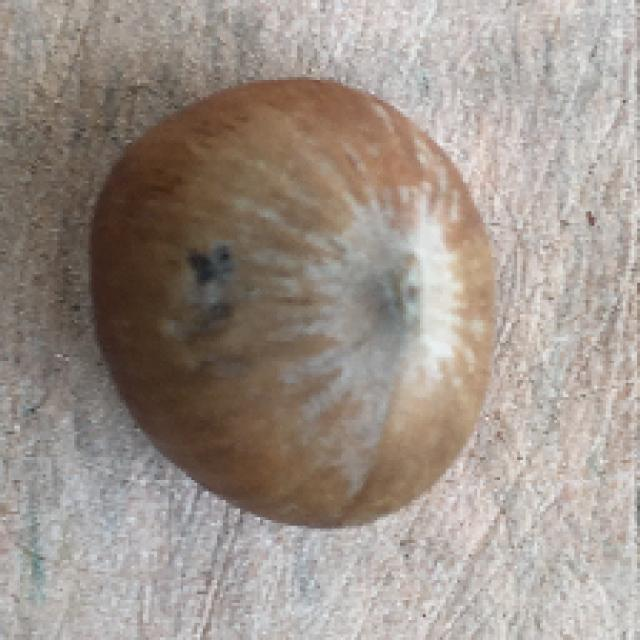DamagedHazelnut: (81, 75, 496, 528)
